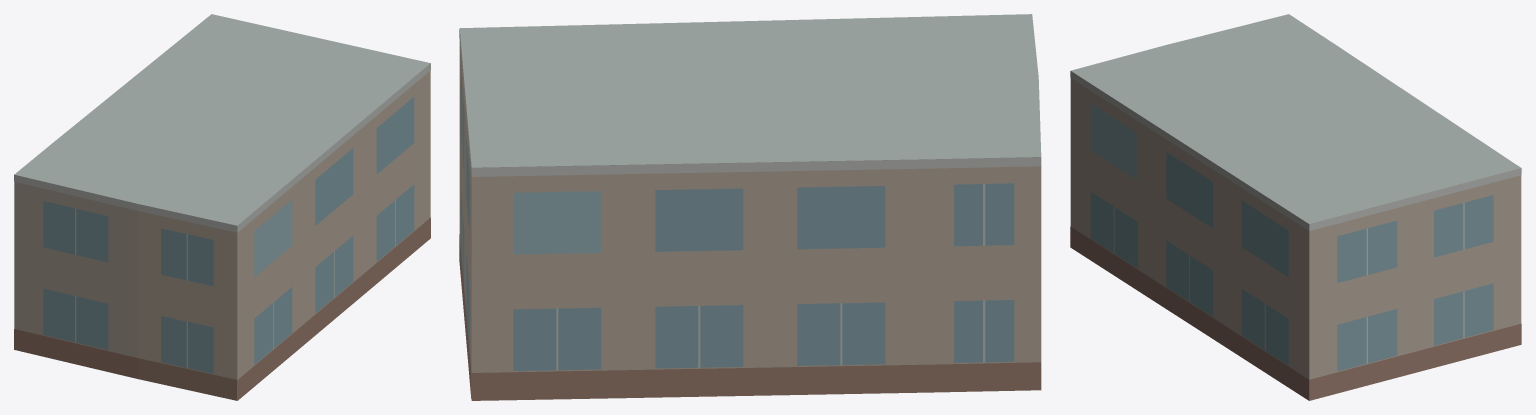
The model's file is survey-upis-32682335.glb.
The picture shows the model from 3 angles, left to right: view 1: azimuth 30°, elevation 25°; view 2: azimuth 150°, elevation 25°; view 3: azimuth 270°, elevation 25°; orthographic projection. The views are drawn at different scales.
Parts seen in each view (by area): view 1: survey-upis-32682335.tmp; view 2: survey-upis-32682335.tmp; view 3: survey-upis-32682335.tmp.
Part boxes in pixels (<box>): survey-upis-32682335.tmp: <box>14,14,430,400</box>; survey-upis-32682335.tmp: <box>459,14,1041,400</box>; survey-upis-32682335.tmp: <box>1070,14,1521,400</box>.
Size of the model in its own units: 15.57 by 6.1 by 14.12.
